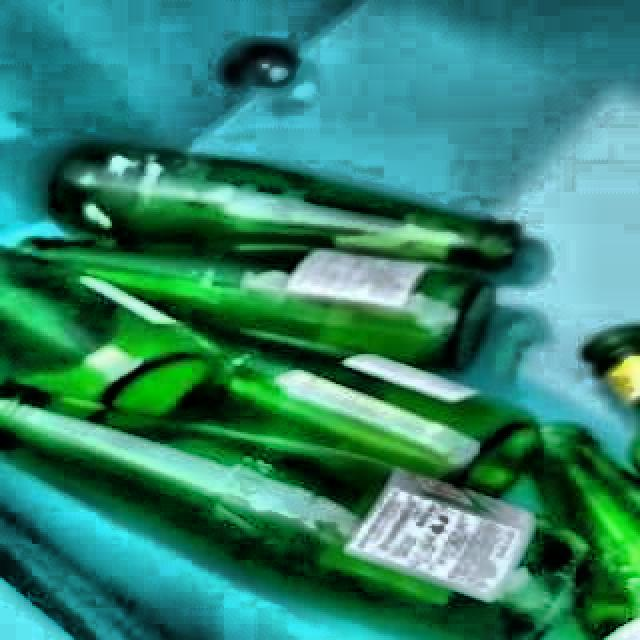glass: (0, 142, 640, 640)
